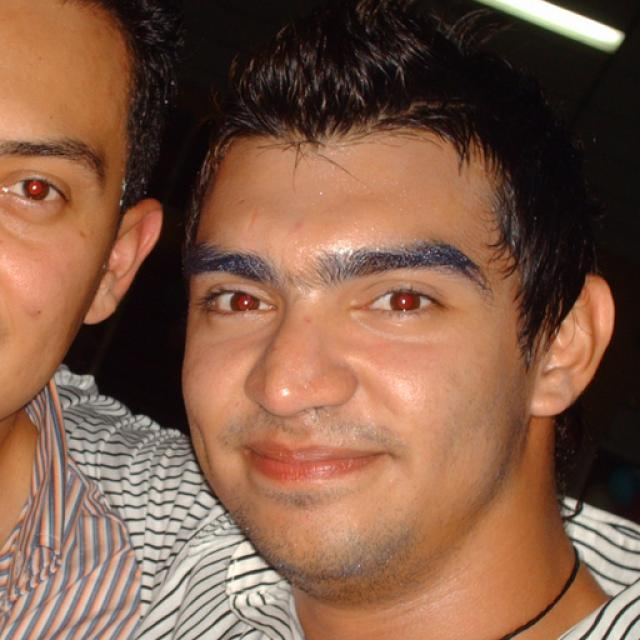happy: (182, 120, 526, 584), (0, 0, 124, 420)
